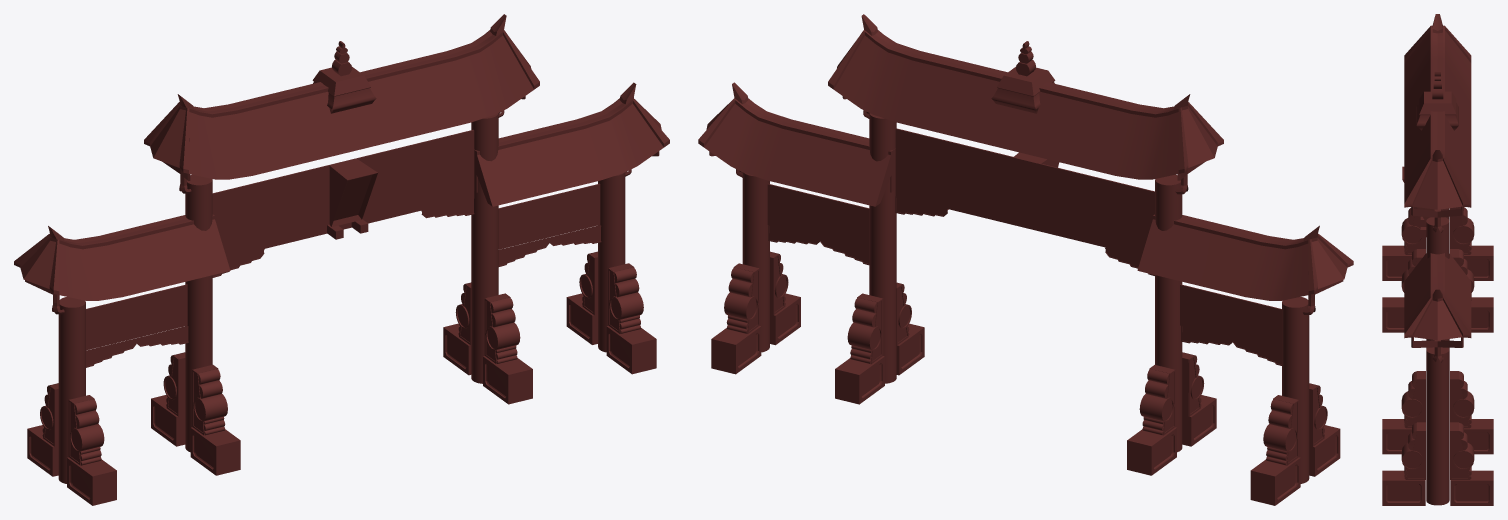
File: Environment_Market_Entrance.fbx
3 views of the same model, side by side, from view 1: azimuth 30°, elevation 25°; view 2: azimuth 150°, elevation 25°; view 3: azimuth 270°, elevation 25° (orthographic). The views are drawn at different scales.
Parts seen in each view (by area): view 1: Torii_Gate; view 2: Torii_Gate; view 3: Torii_Gate.
Boxes of the visible parts, x1,y1,x2,y2 form: Torii_Gate: (14,14,669,505); Torii_Gate: (698,14,1353,505); Torii_Gate: (1382,14,1493,505).
Bounding box in the file's own units: 225932 × 125683 × 40089.
